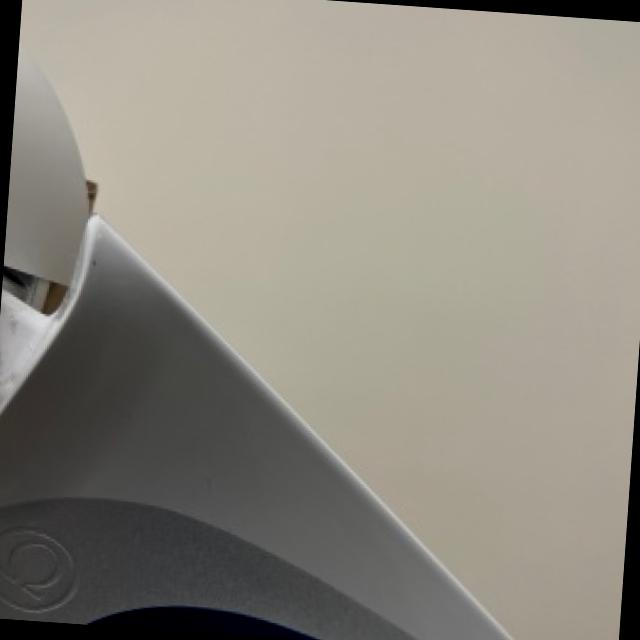healthy: (21, 0, 624, 640), (0, 47, 513, 640)
